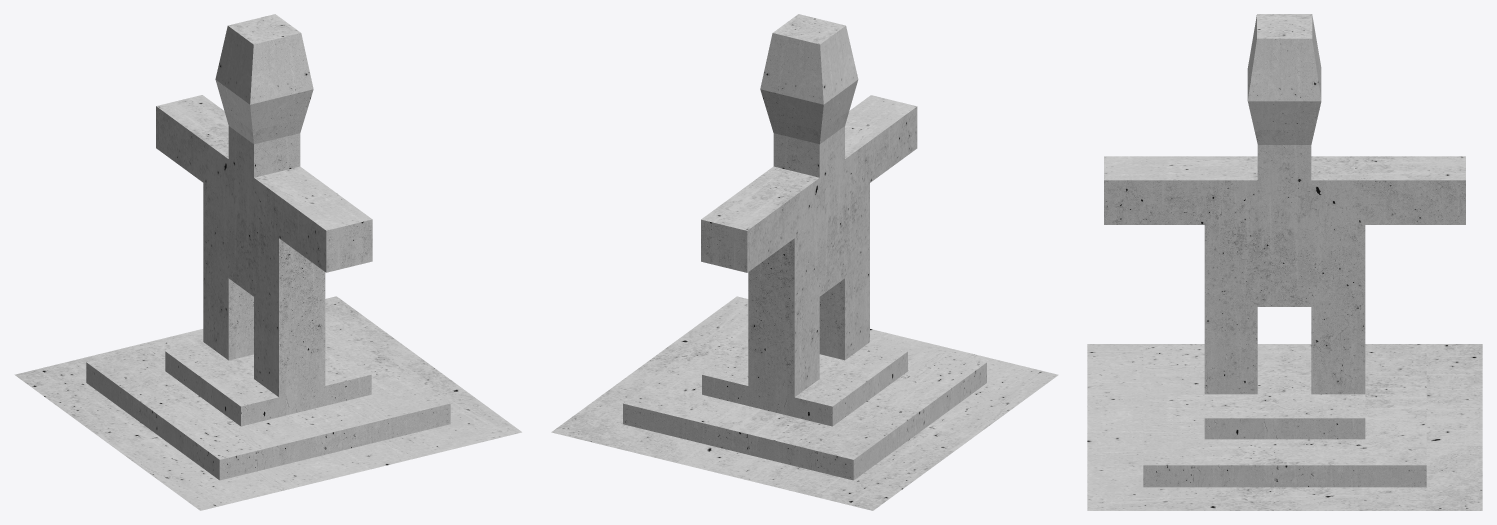
Rendered from statue.glb.
3 renders of one model, left to right at view 1: azimuth 30°, elevation 25°; view 2: azimuth 150°, elevation 25°; view 3: azimuth 270°, elevation 25°, orthographic. The views are drawn at different scales.
Visible parts, largest first — view 1: Plane; view 2: Plane; view 3: Plane.
Part boxes in pixels (left/top/right/bottom): Plane: left=14, top=14, right=521, bottom=510; Plane: left=551, top=14, right=1058, bottom=510; Plane: left=1087, top=14, right=1482, bottom=510.
Bounding box in the file's own units: 2 × 2.23 × 2.
1 material, 1 textured.
